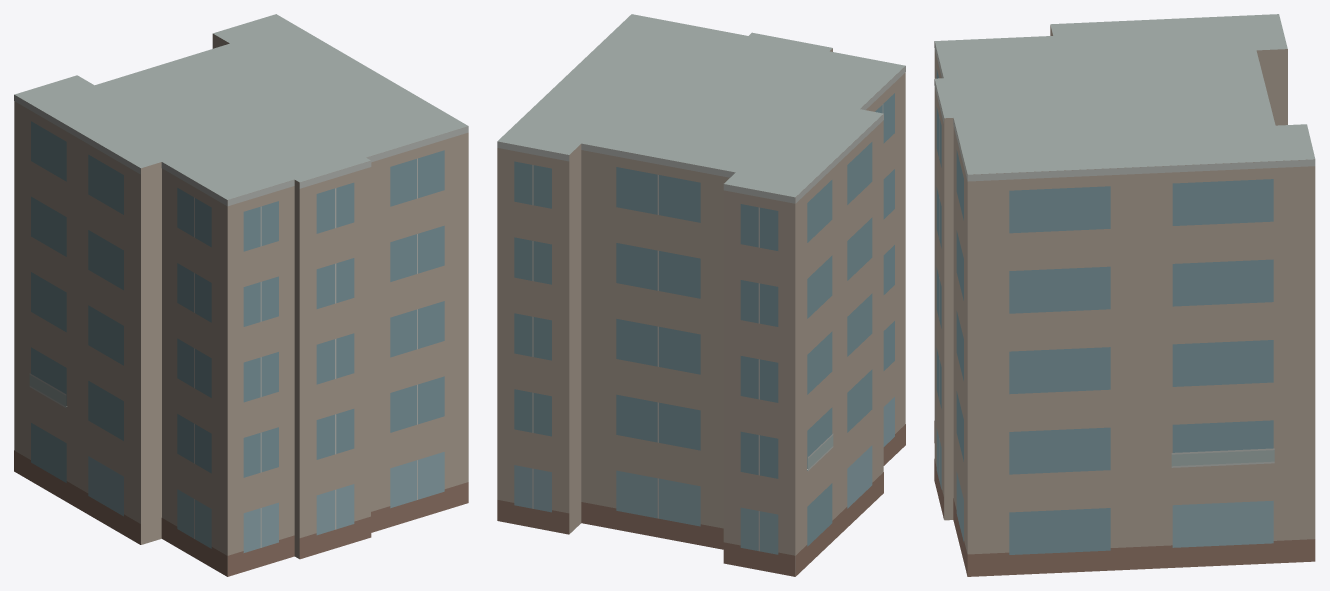
The model's file is survey-upis-33016882.glb.
3 renders of one model, left to right at view 1: azimuth 30°, elevation 25°; view 2: azimuth 150°, elevation 25°; view 3: azimuth 270°, elevation 25°, orthographic. The views are drawn at different scales.
Parts seen in each view (by area): view 1: survey-upis-33016882.tmp; view 2: survey-upis-33016882.tmp; view 3: survey-upis-33016882.tmp.
Part boxes in pixels (x1=…): survey-upis-33016882.tmp: x1=14, y1=14, x2=468, y2=576; survey-upis-33016882.tmp: x1=497, y1=14, x2=905, y2=576; survey-upis-33016882.tmp: x1=934, y1=14, x2=1315, y2=576.
Size of the model in its own units: 12.35 by 14.4 by 12.37.
